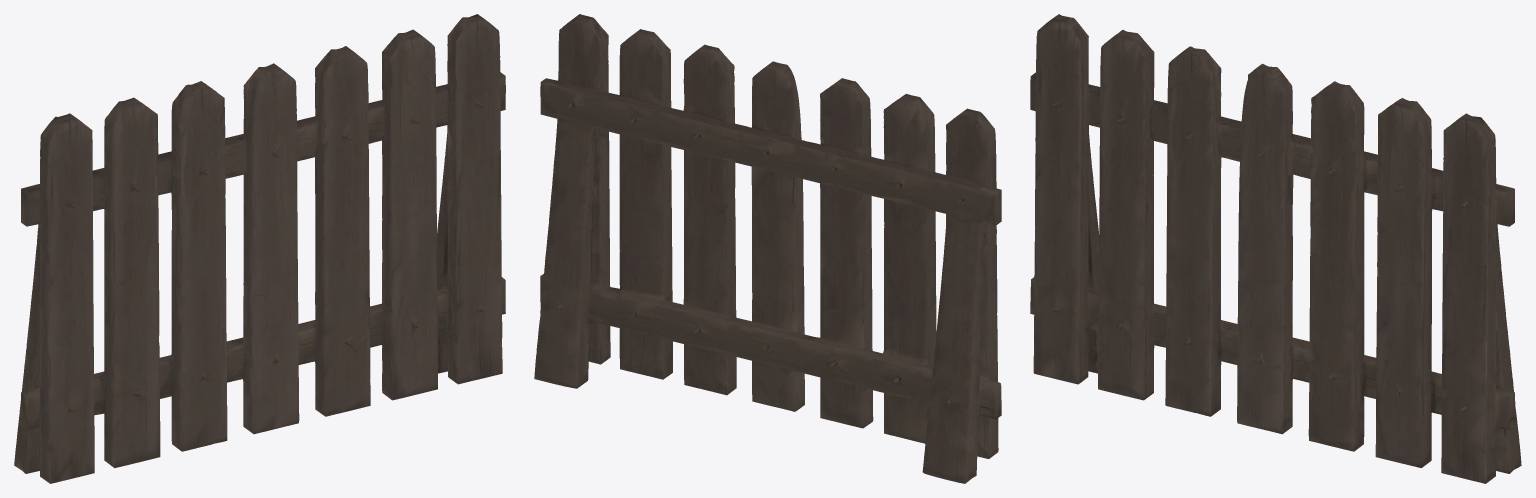
File: wooden-fence.glb
3 renders of one model, left to right at view 1: azimuth 30°, elevation 25°; view 2: azimuth 150°, elevation 25°; view 3: azimuth 330°, elevation 25°, orthographic. The views are drawn at different scales.
Bounding box in the file's own units: 1.9 × 1.38 × 0.2634.
Materials: 1 (1 with a texture image).
